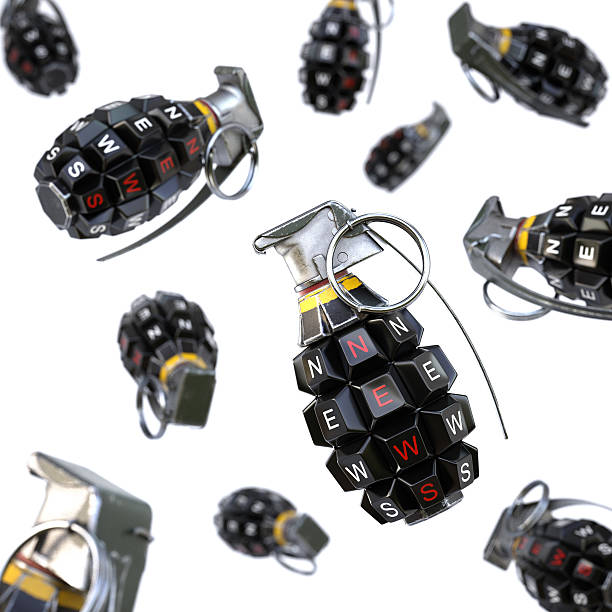e1: (253, 199, 503, 522), (32, 64, 262, 261), (446, 3, 605, 130), (109, 289, 222, 442), (216, 487, 332, 581)
